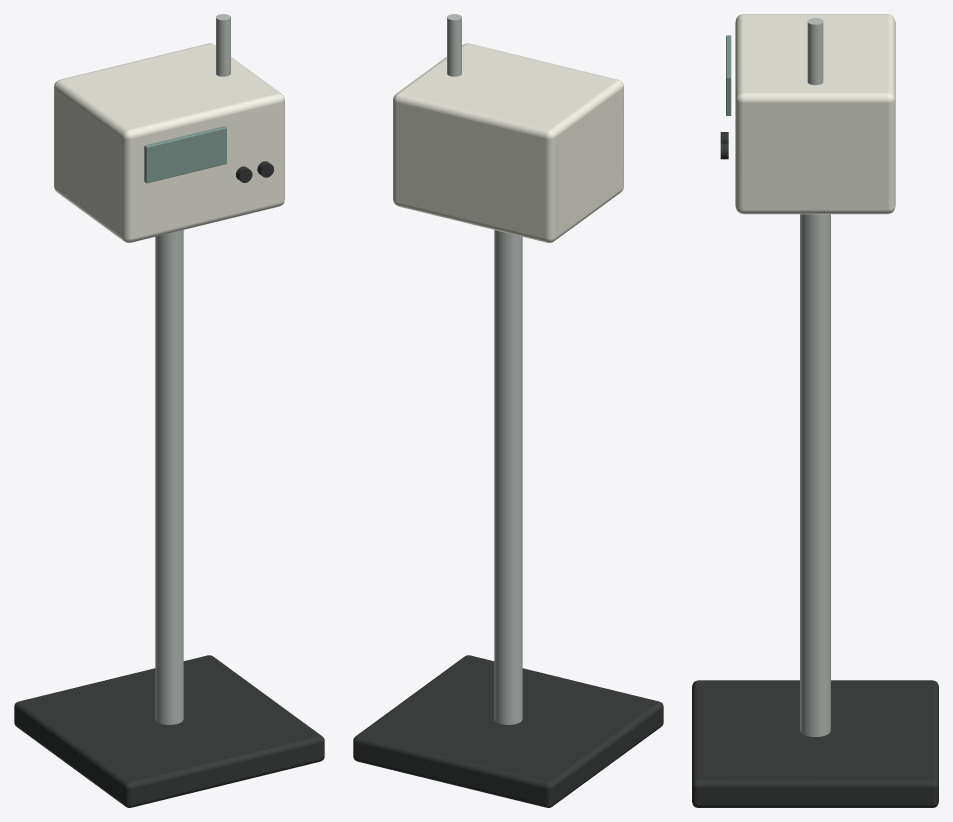
File: spacecraft-thermal-test-chamber-particle-monitor-stand-6d73b3bb__32070.glb
The picture shows the model from 3 angles, left to right: view 1: azimuth 30°, elevation 25°; view 2: azimuth 150°, elevation 25°; view 3: azimuth 270°, elevation 25°; orthographic projection. The views are drawn at different scales.
Visible parts, largest first — view 1: particle-monitor-stand; view 2: particle-monitor-stand; view 3: particle-monitor-stand.
Part boxes in pixels (bbox=[...]): particle-monitor-stand: bbox=[14, 14, 324, 807]; particle-monitor-stand: bbox=[353, 14, 663, 807]; particle-monitor-stand: bbox=[692, 14, 938, 807].
Bounding box in the file's own units: 0.37 × 1.26 × 0.37.
